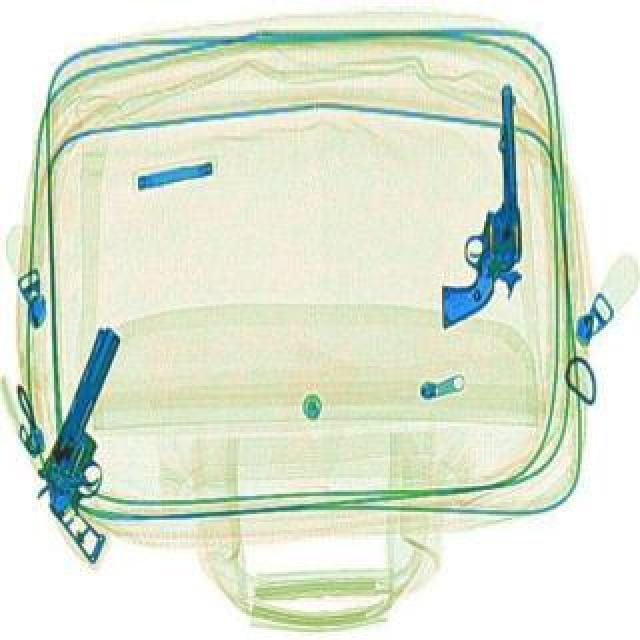gun: (16, 322, 180, 564), (430, 82, 524, 326)
